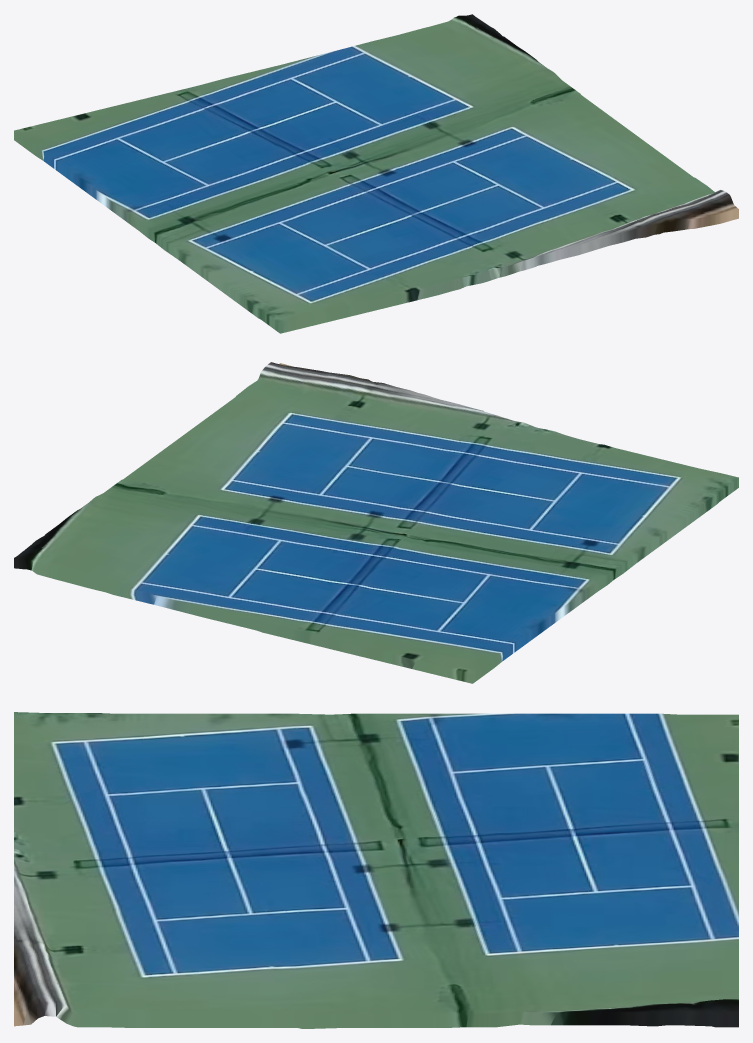
Rendered from z20-167781-405214-h0-yup-uvflip-v3-world.glb.
3 views of the same model, one above another, from view 1: azimuth 30°, elevation 25°; view 2: azimuth 150°, elevation 25°; view 3: azimuth 270°, elevation 25° (orthographic). The views are drawn at different scales.
Size of the model in its own units: 30.16 by 1.36 by 30.32.
Materials: 1 (1 with a texture image).
